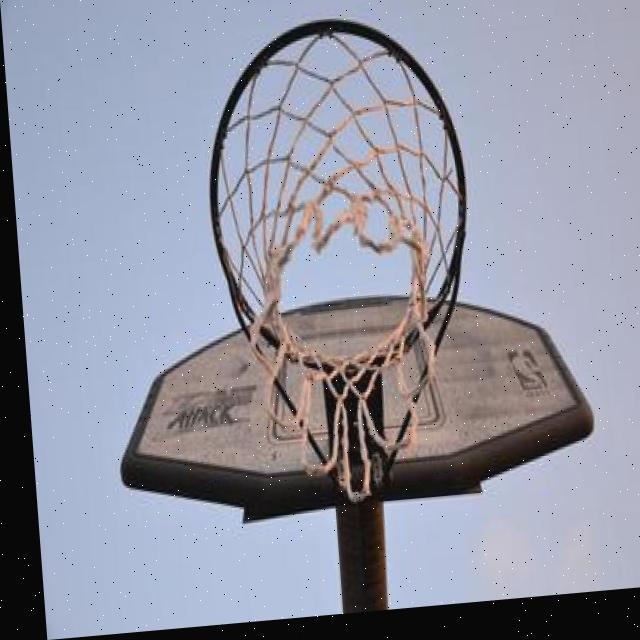hoop: (197, 8, 489, 510)
